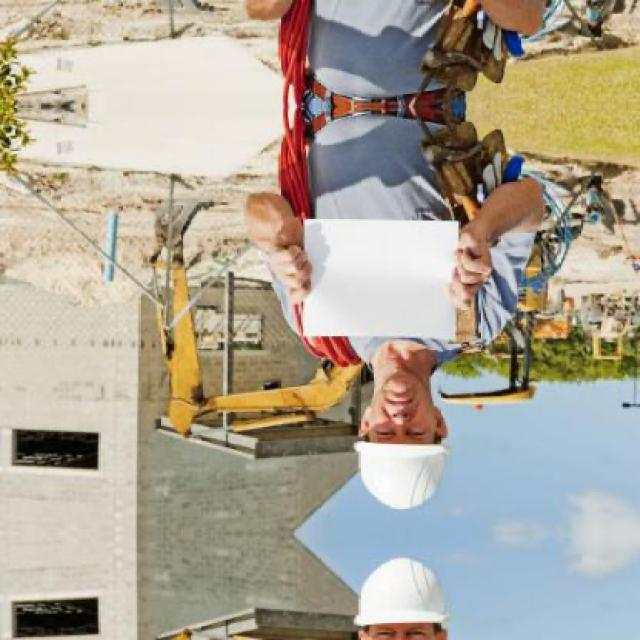con casco: (320, 370, 495, 522)
